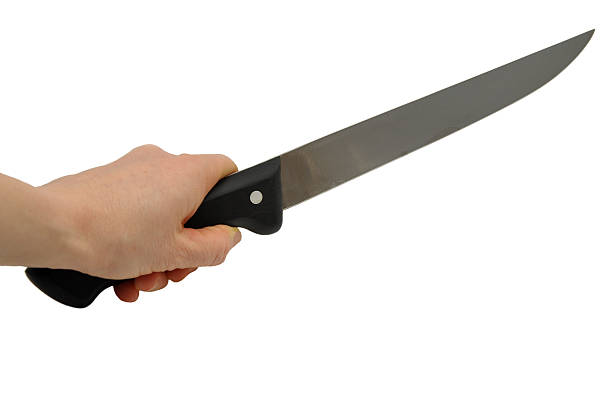knife: (25, 27, 597, 310)
